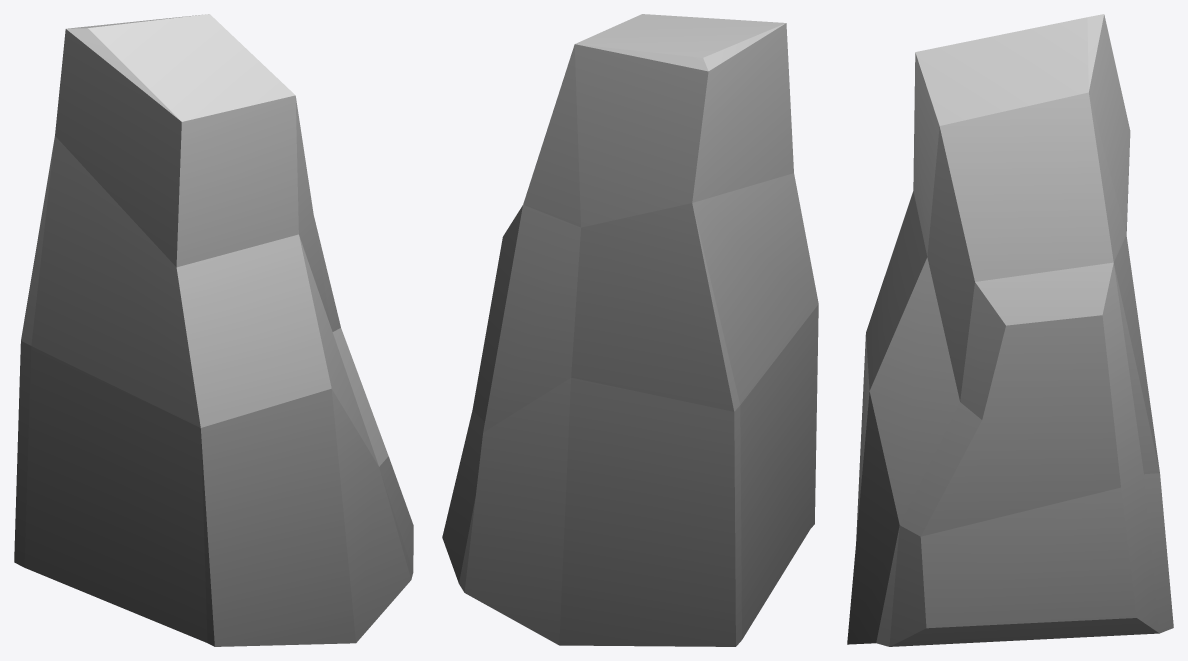
The model's file is Rock_14.fbx.
3 renders of one model, left to right at view 1: azimuth 30°, elevation 25°; view 2: azimuth 150°, elevation 25°; view 3: azimuth 270°, elevation 25°, orthographic. The views are drawn at different scales.
Visible parts, largest first — view 1: Rock_1; view 2: Rock_1; view 3: Rock_1.
Part boxes in pixels (<box>): Rock_1: <box>14,14,413,646</box>; Rock_1: <box>442,14,818,646</box>; Rock_1: <box>847,14,1173,646</box>.
Size of the model in its own units: 60.18 by 109 by 57.87.
